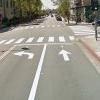Crosswalk: (1, 32, 100, 53)
